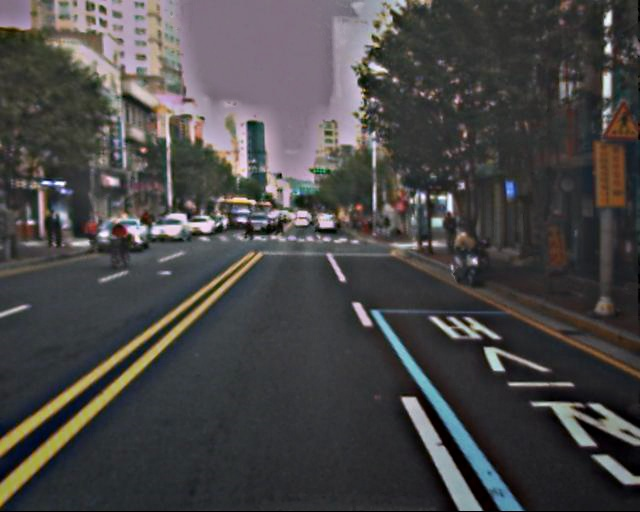person: (40, 209, 61, 247), (441, 210, 459, 254)
